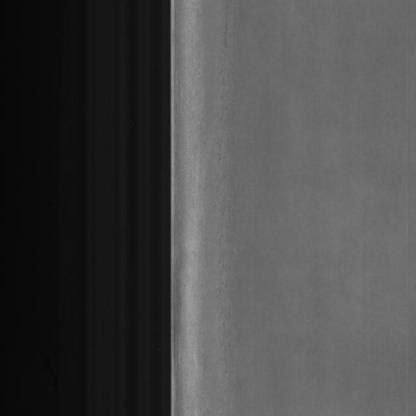silk_spot: (206, 148, 254, 354)
